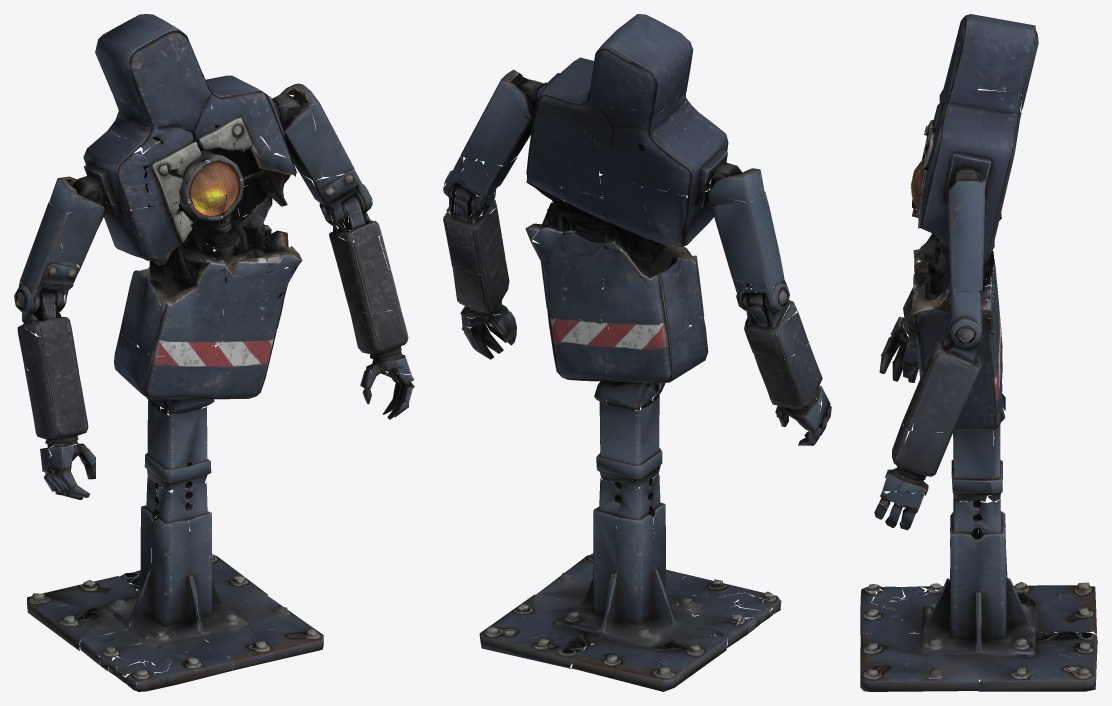
File: dummy_b.glb
3 views of the same model, side by side, from view 1: azimuth 30°, elevation 25°; view 2: azimuth 150°, elevation 25°; view 3: azimuth 270°, elevation 25° (orthographic). The views are drawn at different scales.
Parts seen in each view (by area): view 1: Mesh; view 2: Mesh; view 3: Mesh.
Part boxes in pixels (x1,y1,x2,y2): Mesh: (14, 14, 414, 691); Mesh: (443, 14, 831, 691); Mesh: (860, 14, 1097, 691).
Bounding box in the file's own units: 1.1 × 1.8 × 0.6242.
Materials: 1 (1 with a texture image).
